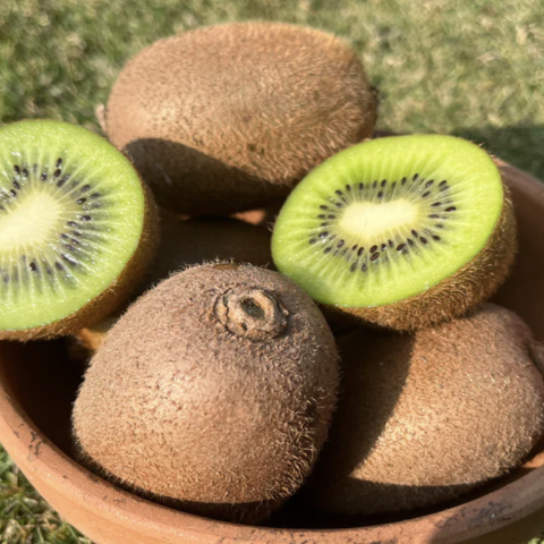kiwi: (61, 219, 356, 531), (77, 16, 384, 223)
